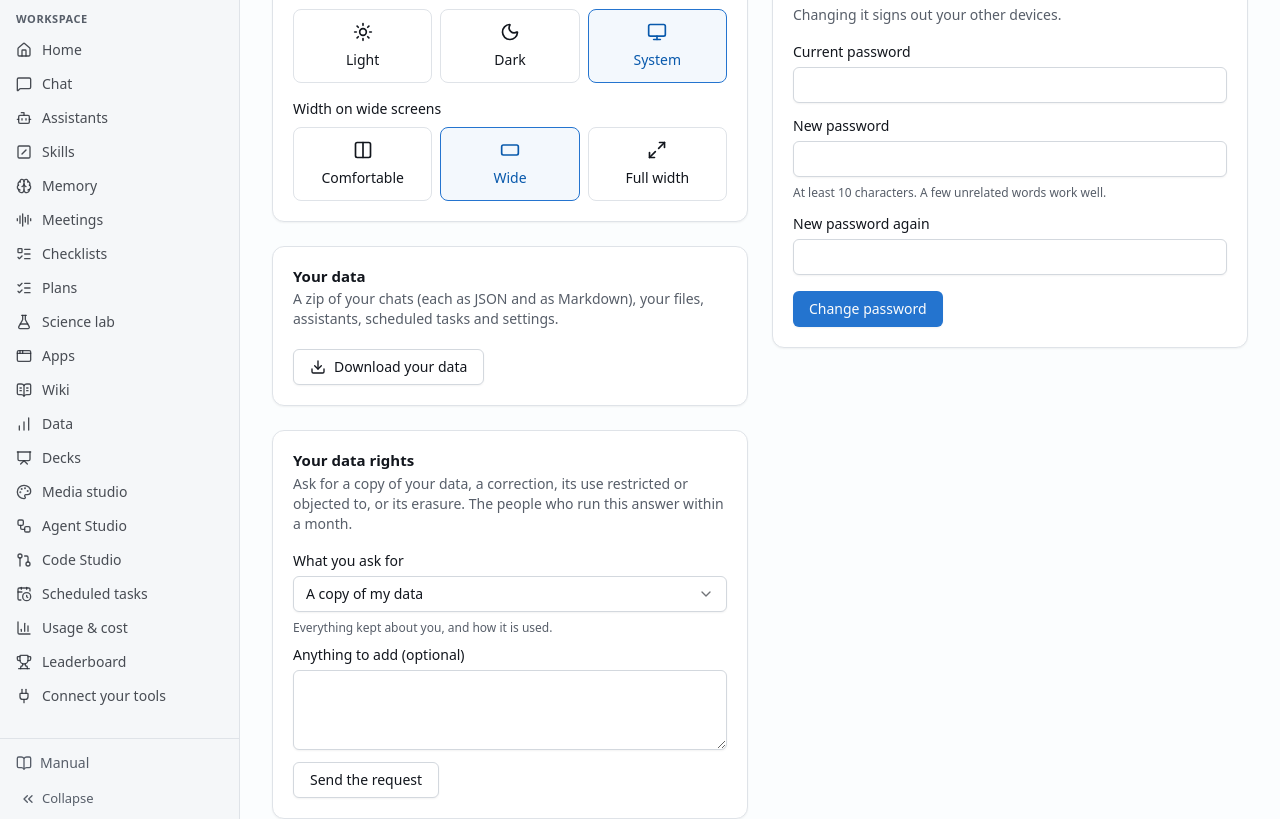
Test: data requests › a person asks from Your account and sees how it stands
(page scrolled)
Click the dropdown at {"x": 365, "y": 594}, box left=293, top=576, right=727, bottom=612
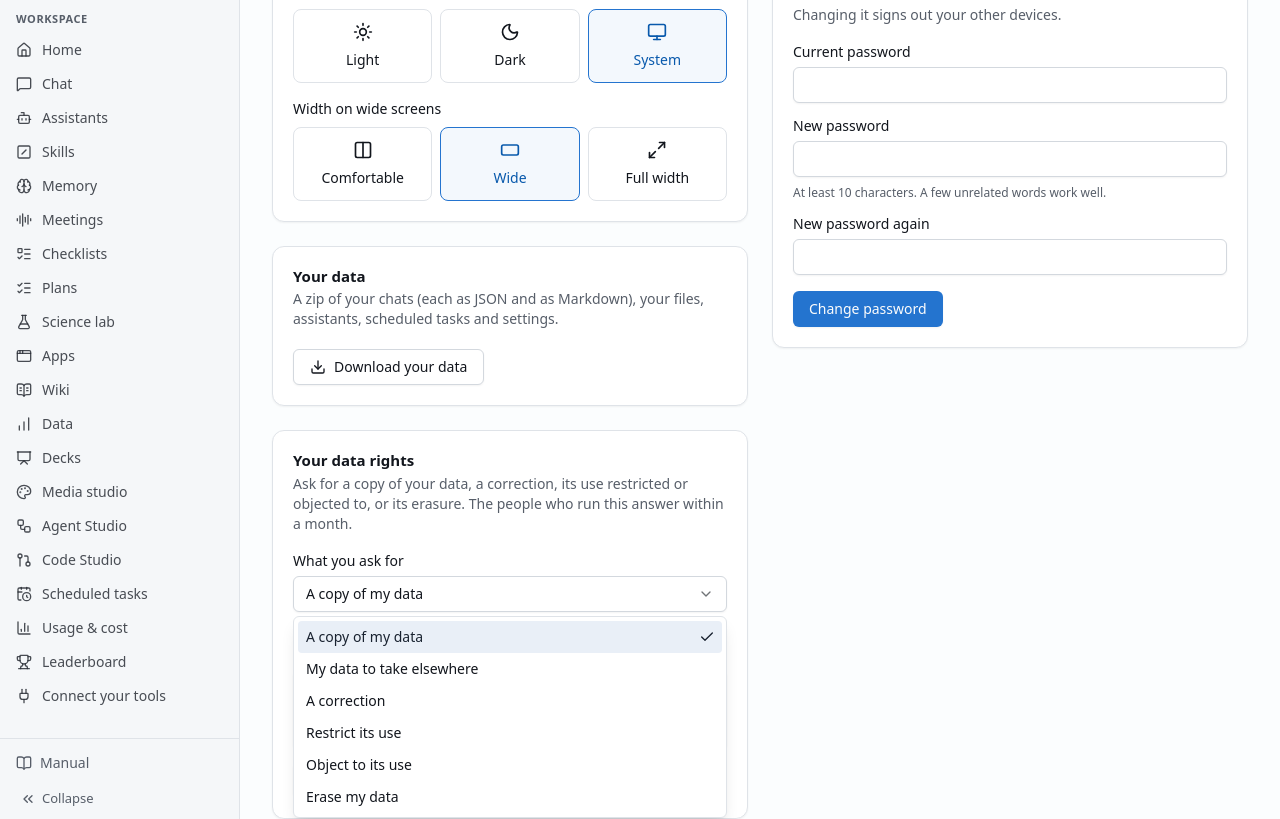
Click the option "A correction" at {"x": 346, "y": 700}, box left=306, top=691, right=386, bottom=710
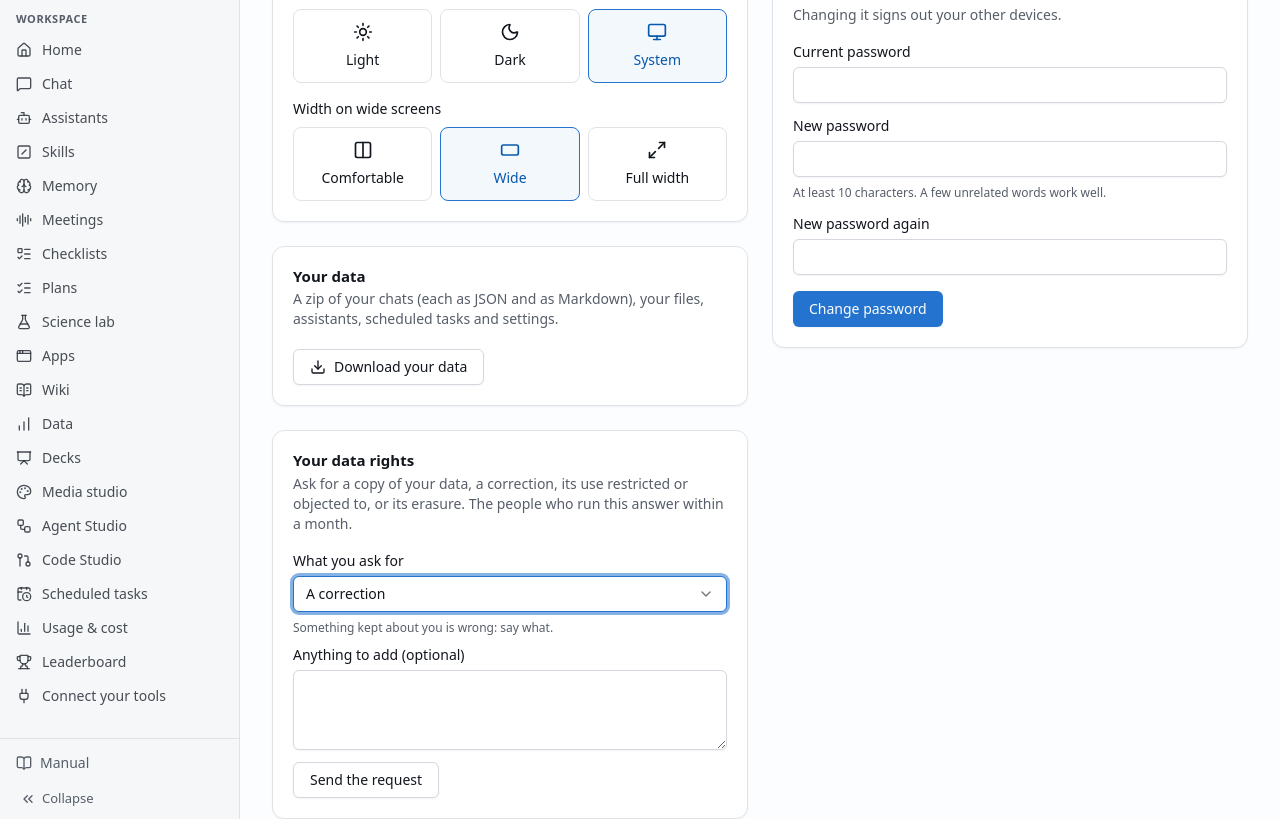
Type "My surname is spelt Smyth." into the text box labelled "Anything to add (optional)" at {"x": 510, "y": 710}, box left=293, top=670, right=727, bottom=750
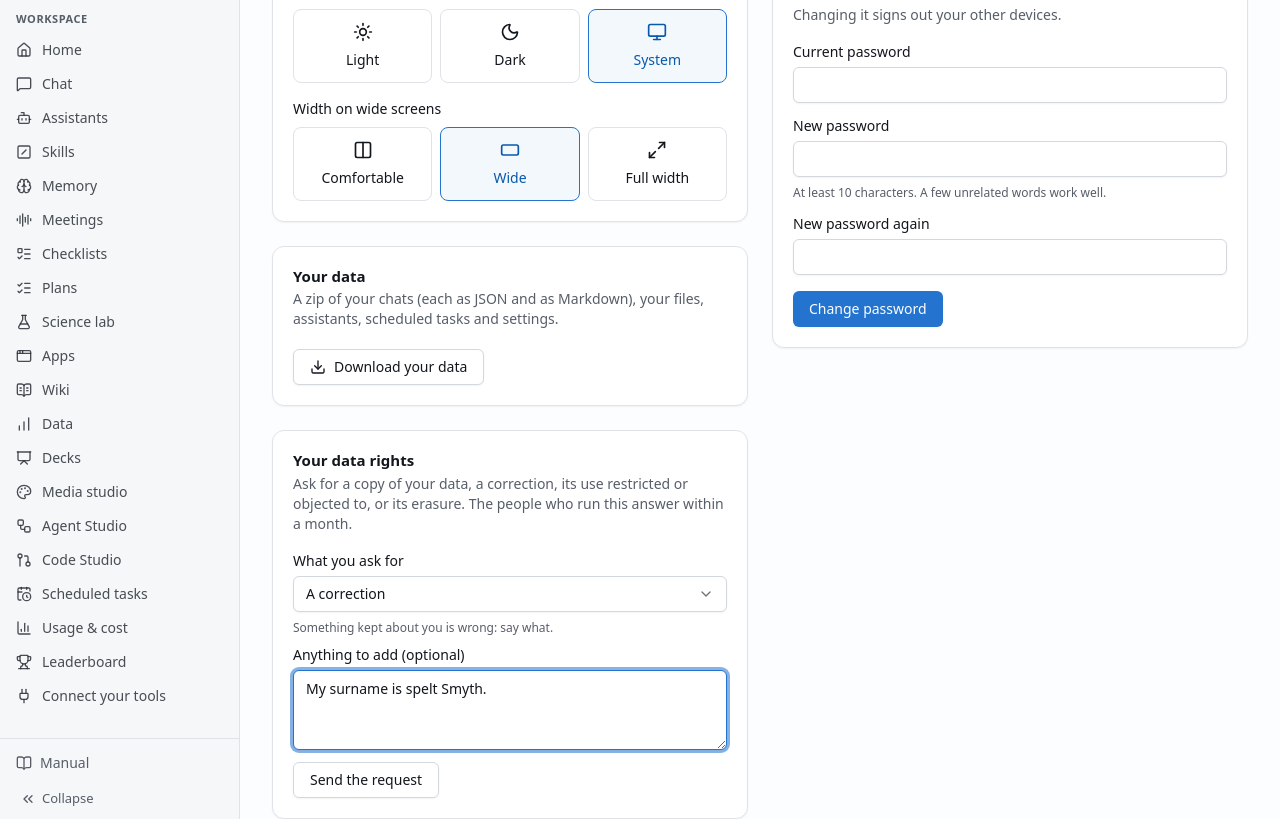
Click the button "Send the request" at {"x": 366, "y": 780}, box left=293, top=762, right=439, bottom=798
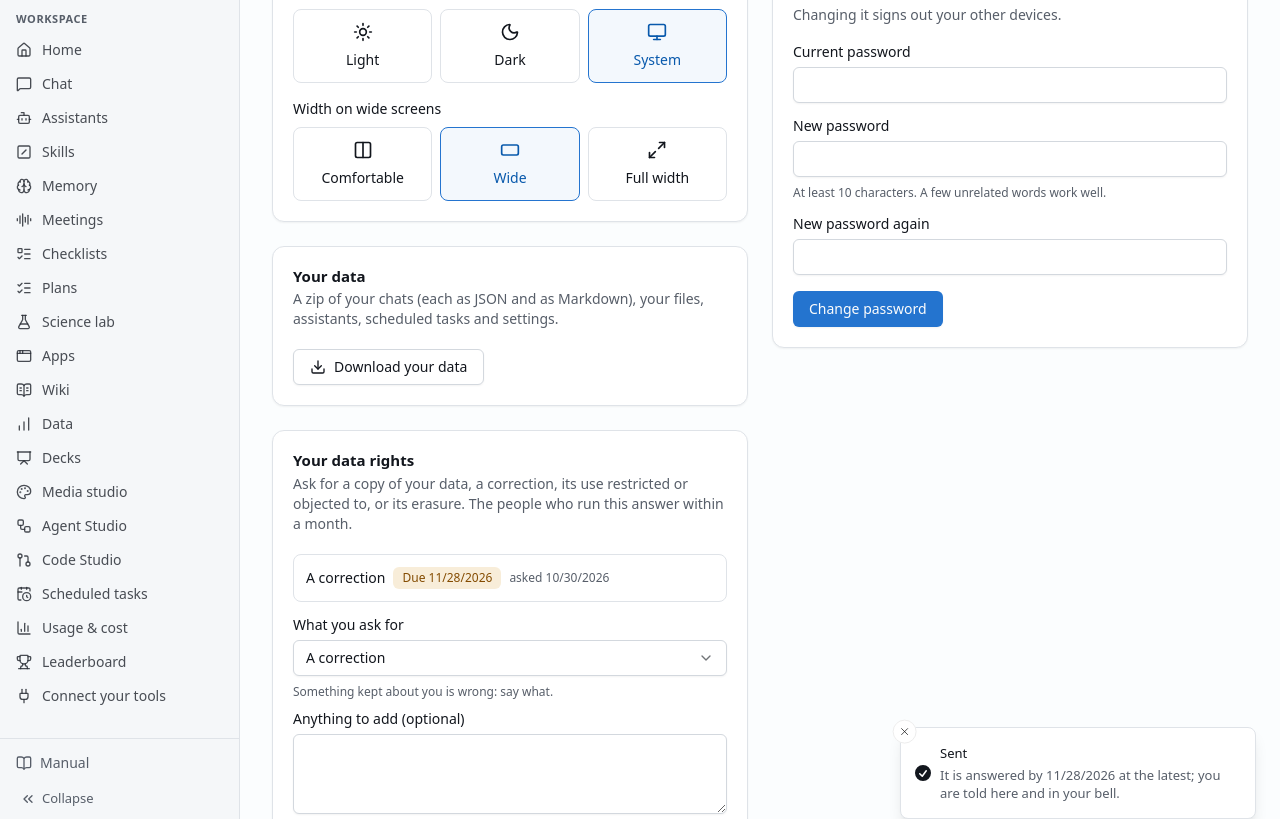
Result: the text "A correction" next to "Due 11/28/2026" is shown at left=306, top=568, right=386, bottom=587
Result: the text "Due 11/28/2026" is shown at left=394, top=567, right=501, bottom=589
